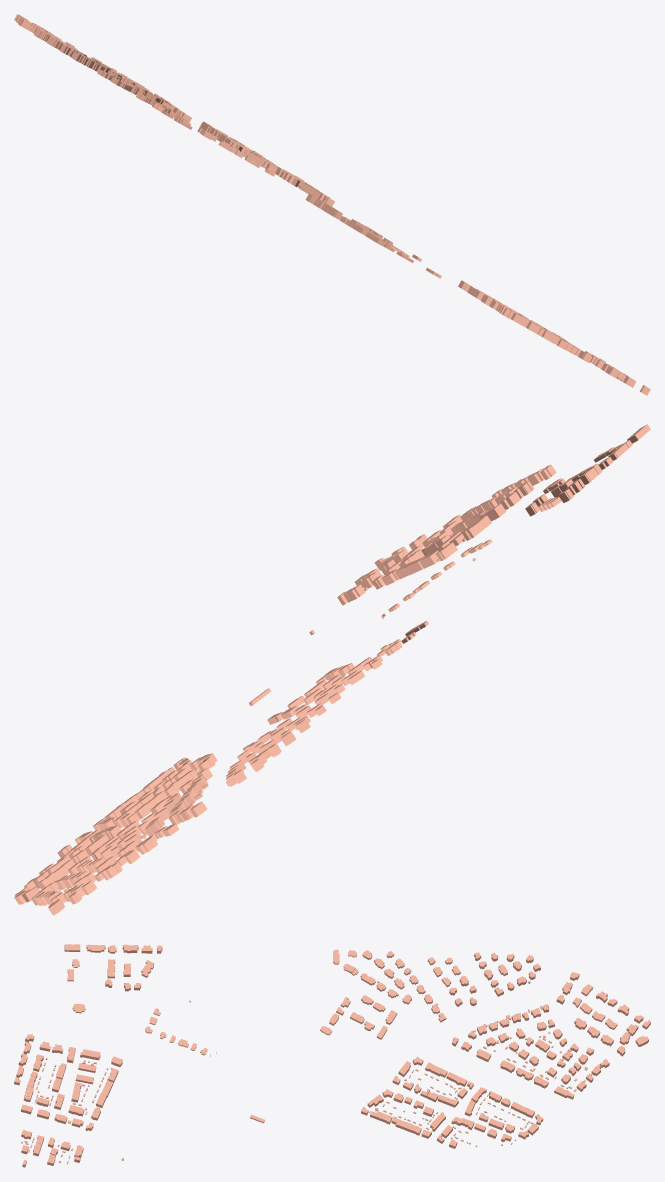
3 renders of one model, top to bottom at view 1: azimuth 30°, elevation 25°; view 2: azimuth 150°, elevation 25°; view 3: azimuth 270°, elevation 25°, orthographic. The views are drawn at different scales.
Bounding box in the file's own units: 413 × 290 × 1200.
